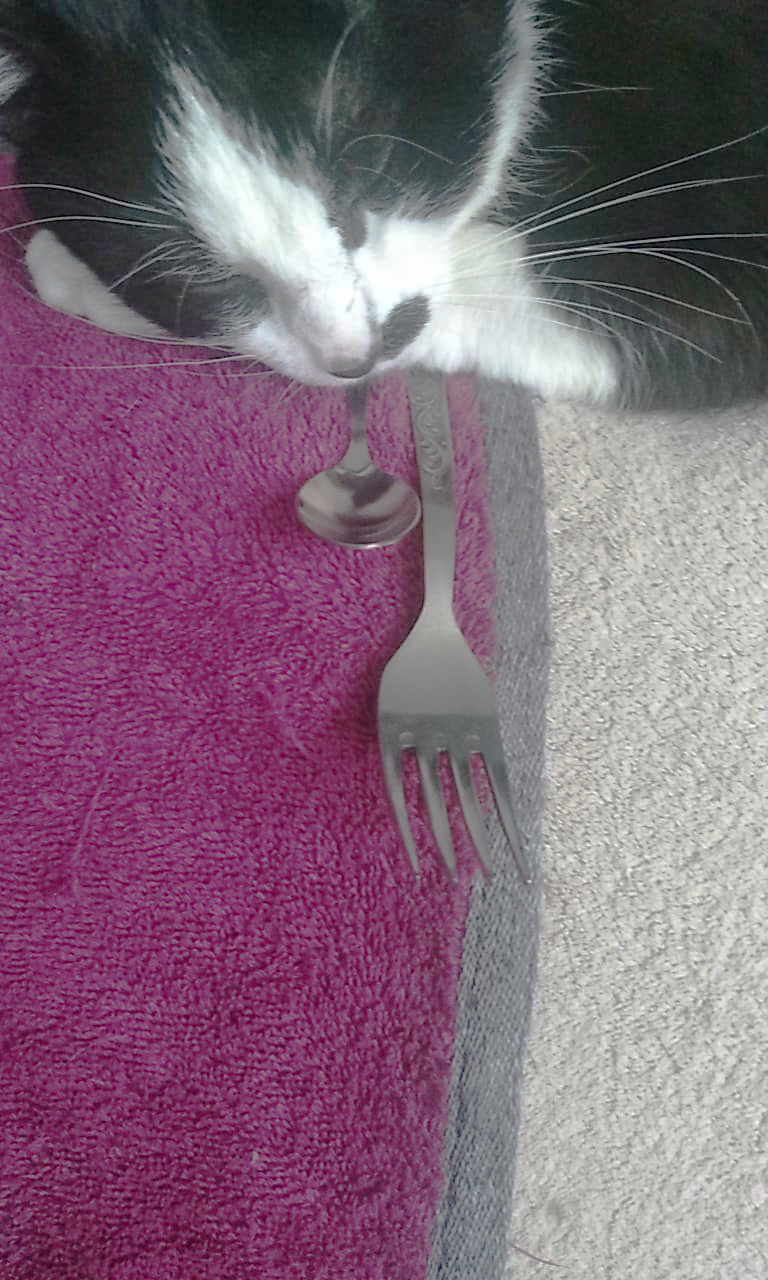Lyzka: (290, 457, 421, 557)
Widelec: (375, 624, 561, 896)
